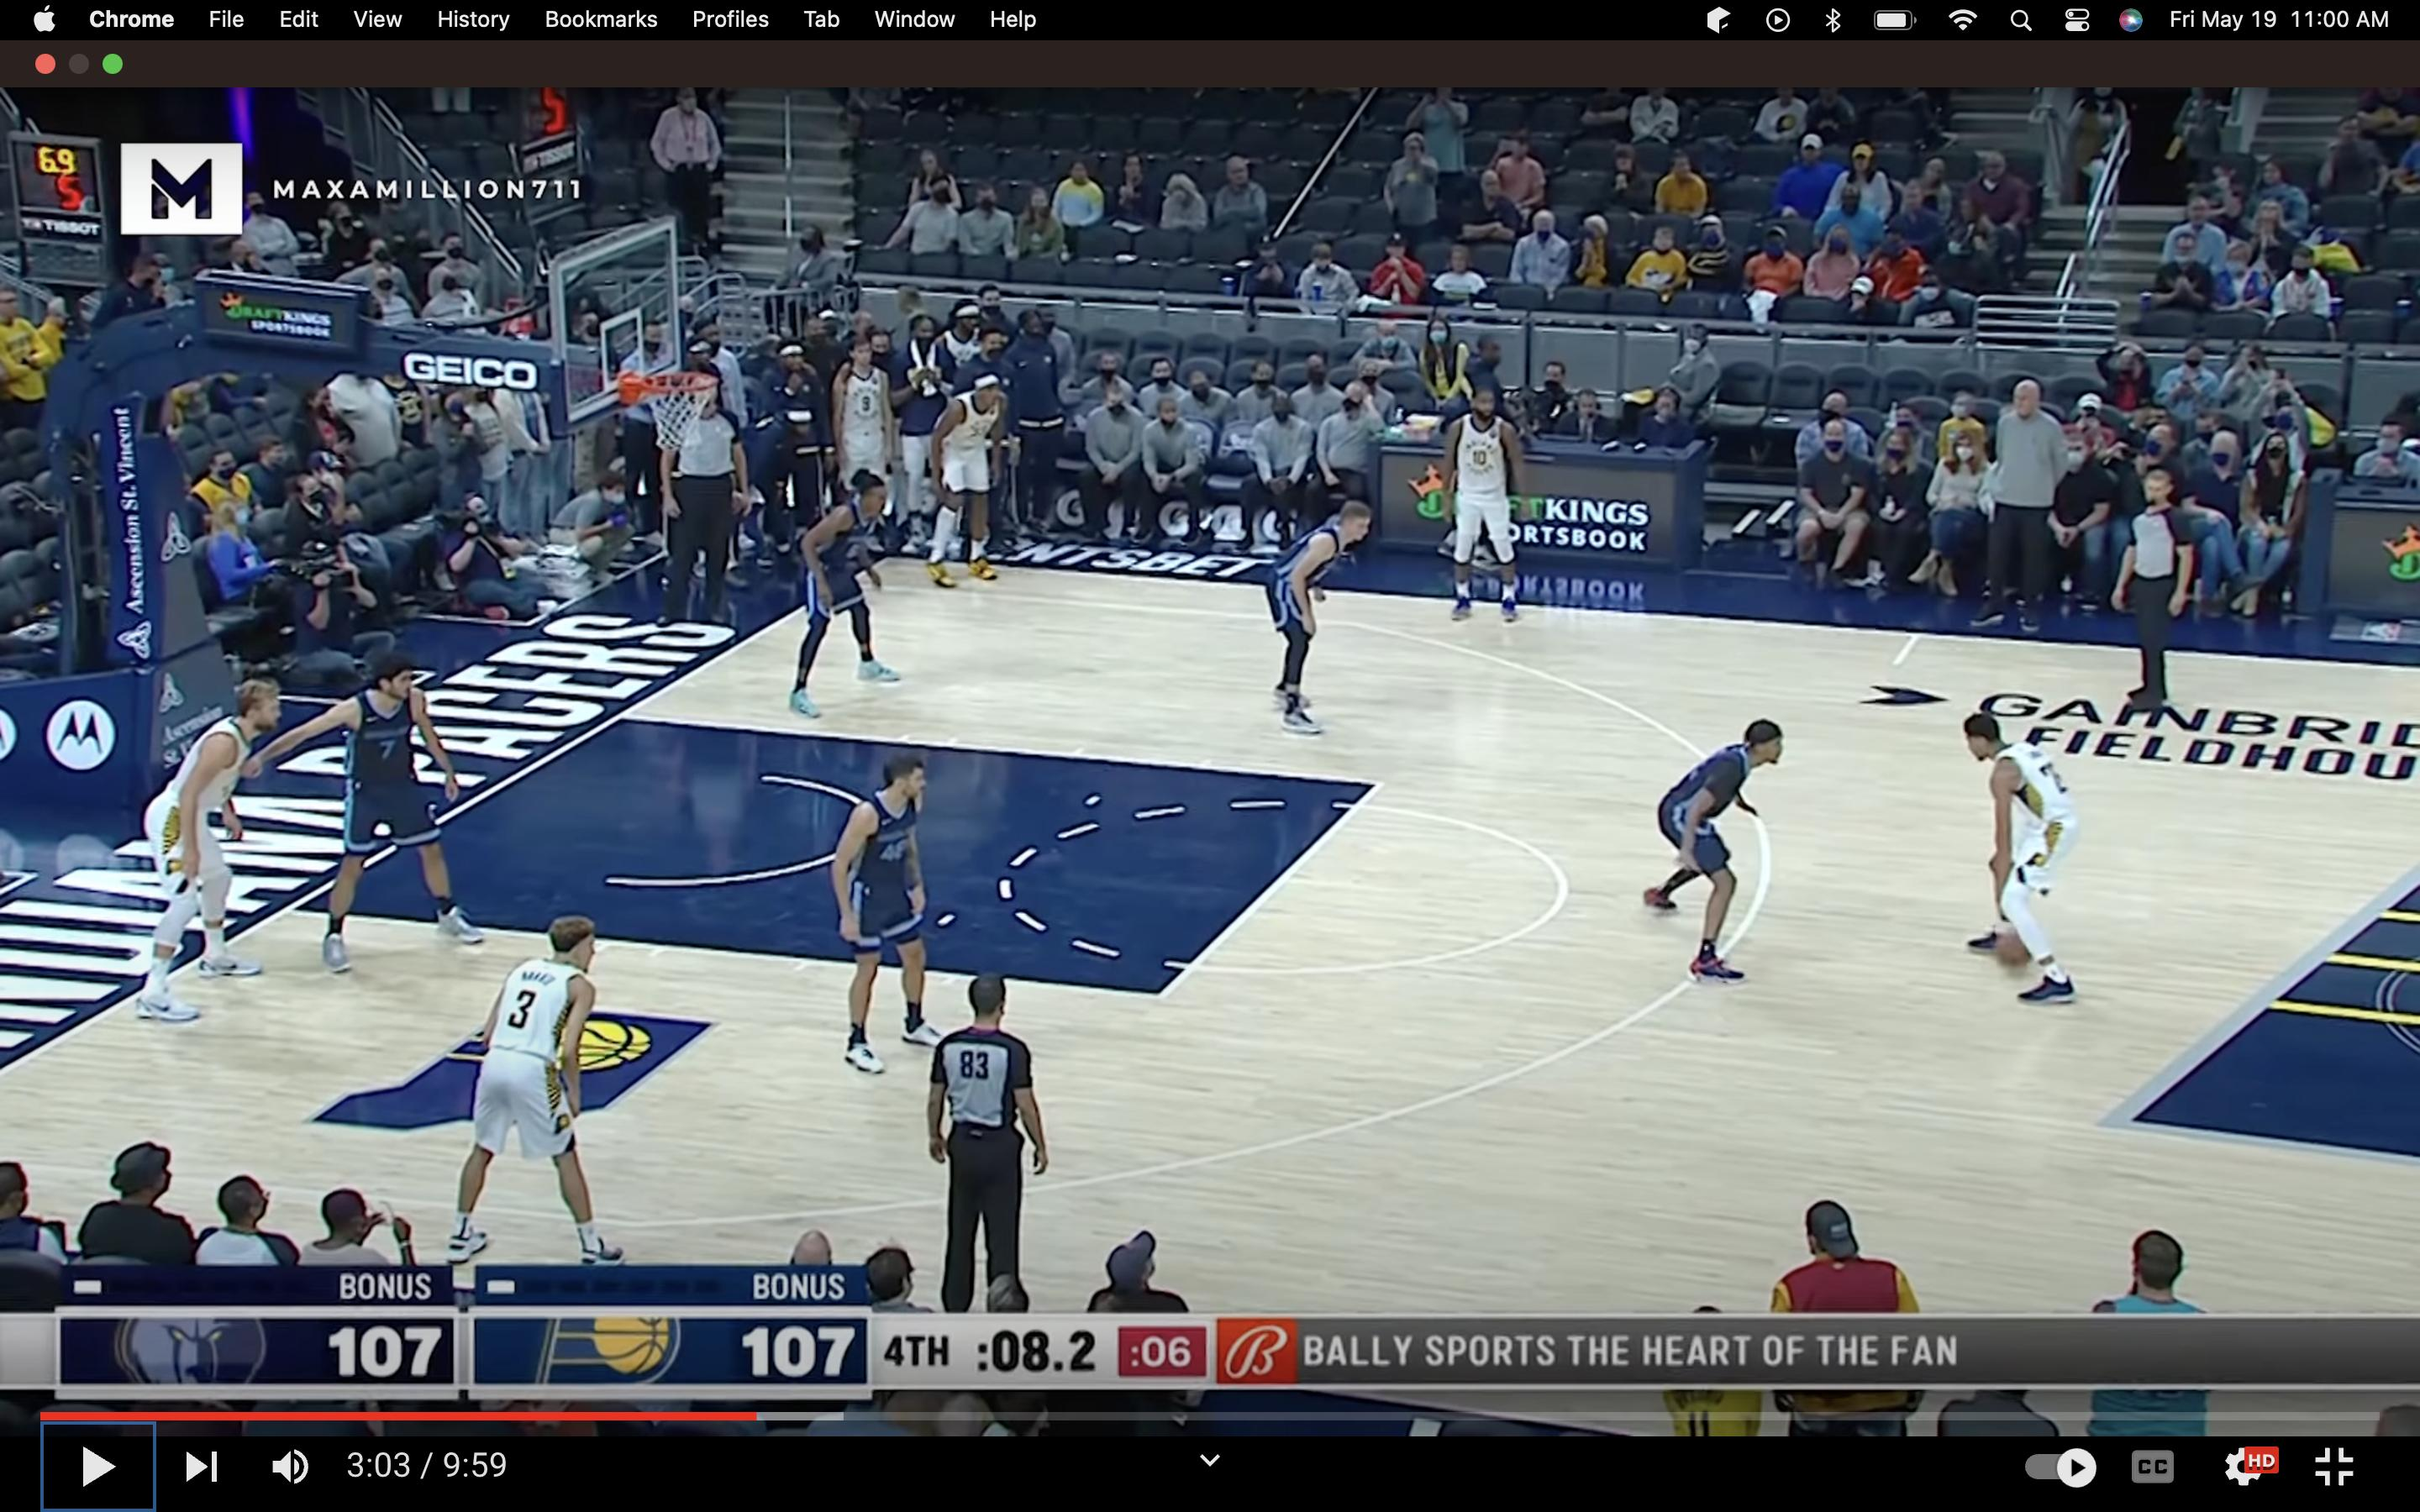Backboard: (550, 218, 685, 433)
Ball: (1995, 927, 2033, 969)
Basket: (638, 368, 715, 455)
Dribble: (1998, 957, 2033, 975)
Person: (437, 907, 622, 1258), (296, 655, 488, 976), (141, 674, 287, 1025), (1947, 708, 2092, 1022), (828, 748, 962, 1078), (1637, 714, 1788, 990), (1252, 486, 1385, 743), (776, 465, 905, 717), (916, 369, 1021, 588), (1441, 385, 1535, 624)
Referee: (922, 969, 1058, 1309), (657, 371, 759, 647), (2101, 462, 2196, 711)
Shot Clock: (7, 130, 122, 291), (502, 71, 597, 228)
